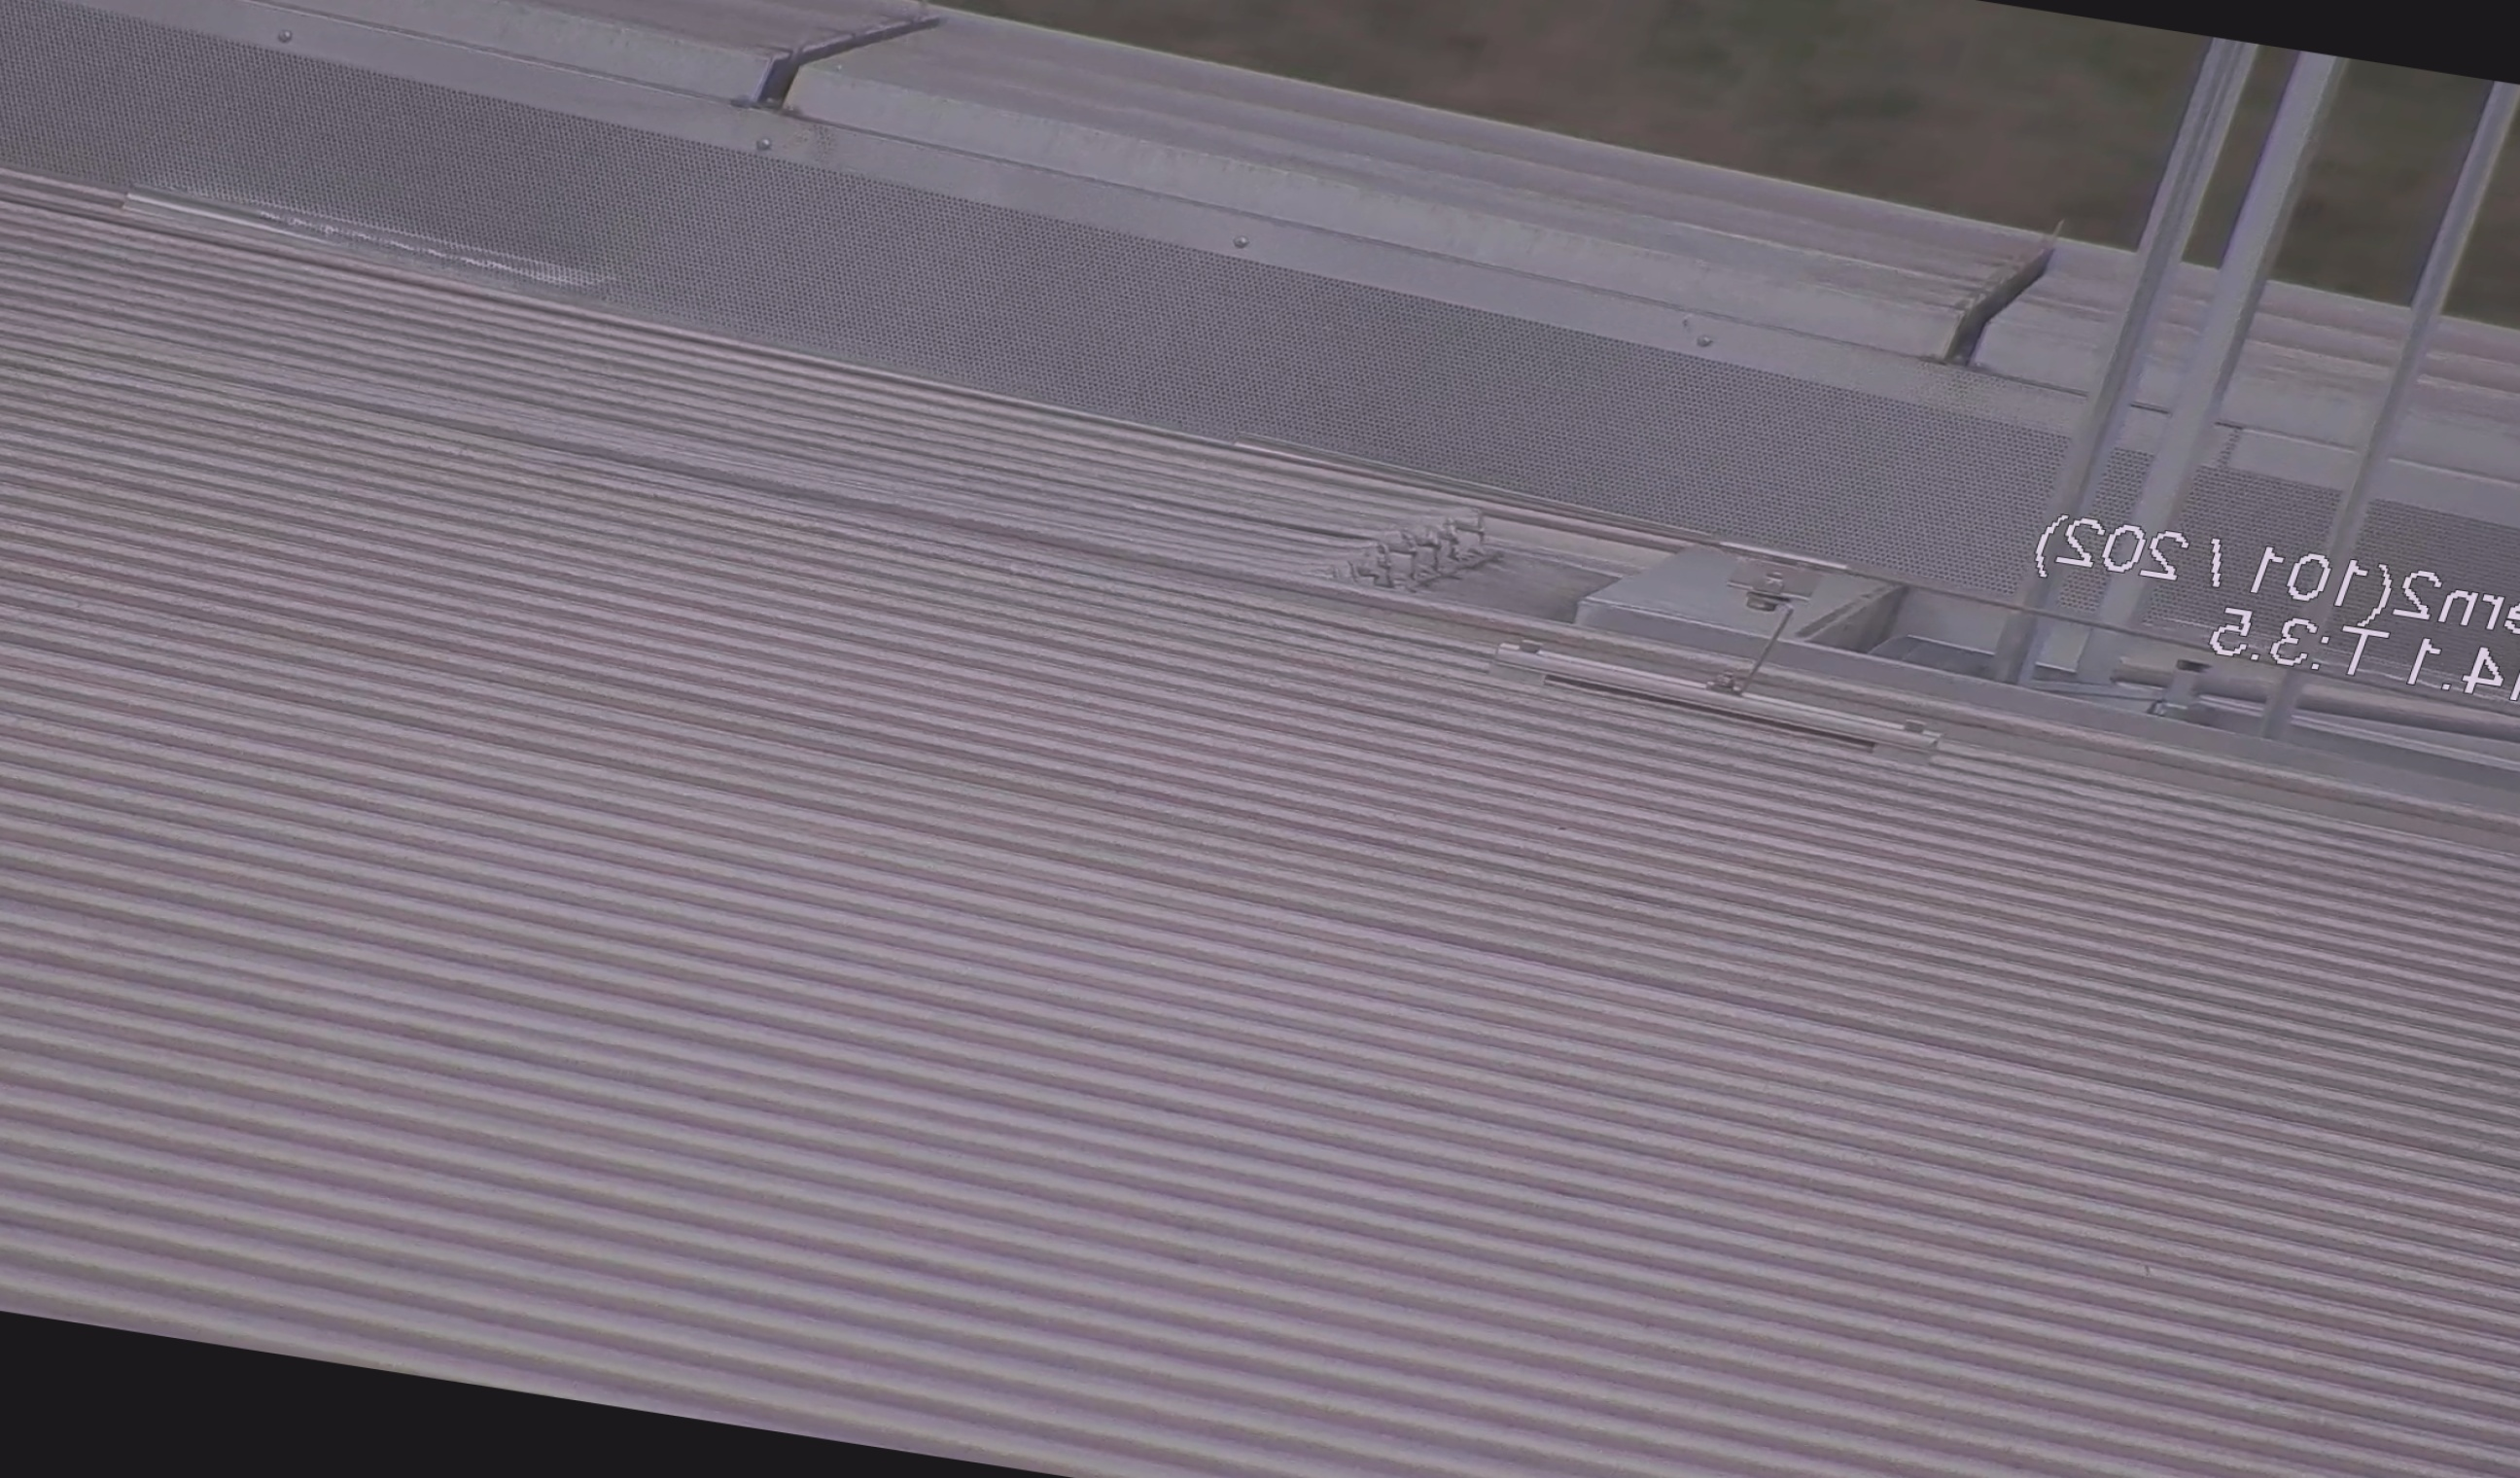Other: (1924, 206, 2103, 382)
